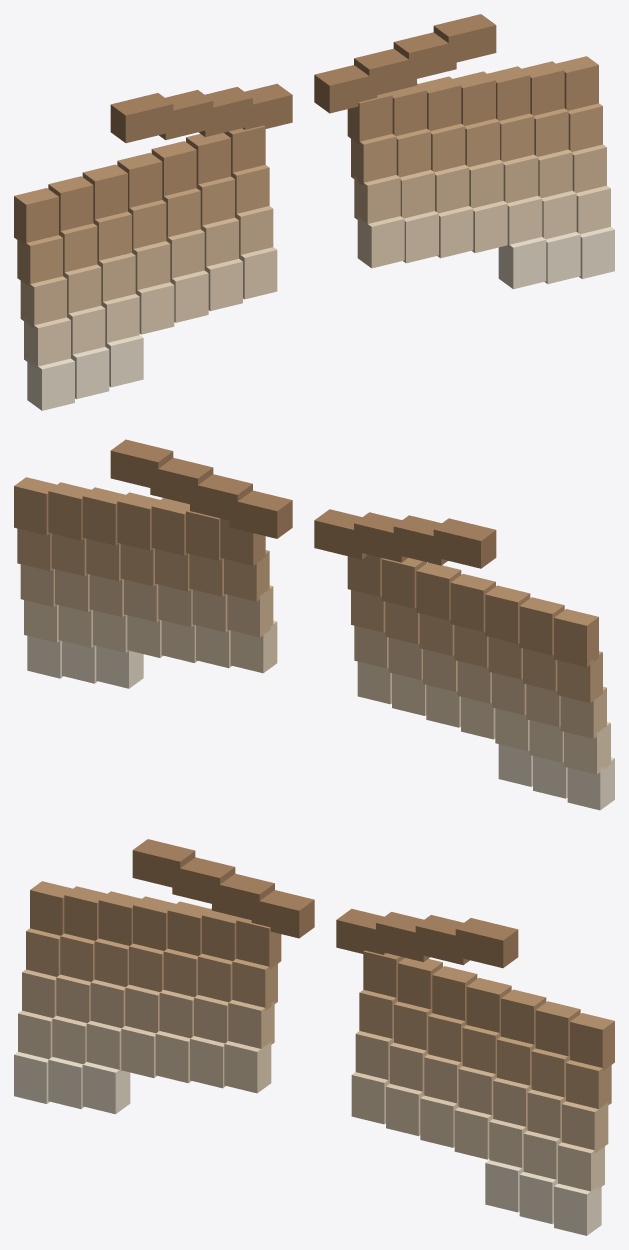
The model's file is asas_pequenas.glb.
3 views of the same model, one above another, from view 1: azimuth 30°, elevation 25°; view 2: azimuth 150°, elevation 25°; view 3: azimuth 330°, elevation 25° (orthographic).
Visible parts, largest first — view 1: asas_pequenas; view 2: asas_pequenas; view 3: asas_pequenas.
Part boxes in pixels (bbox=[...]): asas_pequenas: bbox=[14, 14, 614, 410]; asas_pequenas: bbox=[14, 439, 614, 810]; asas_pequenas: bbox=[14, 839, 614, 1235].
Size of the model in its own units: 1.08 by 0.4655 by 0.107.
